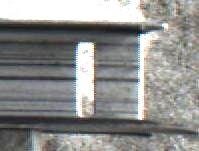40ngpress: (42, 19, 159, 130)
